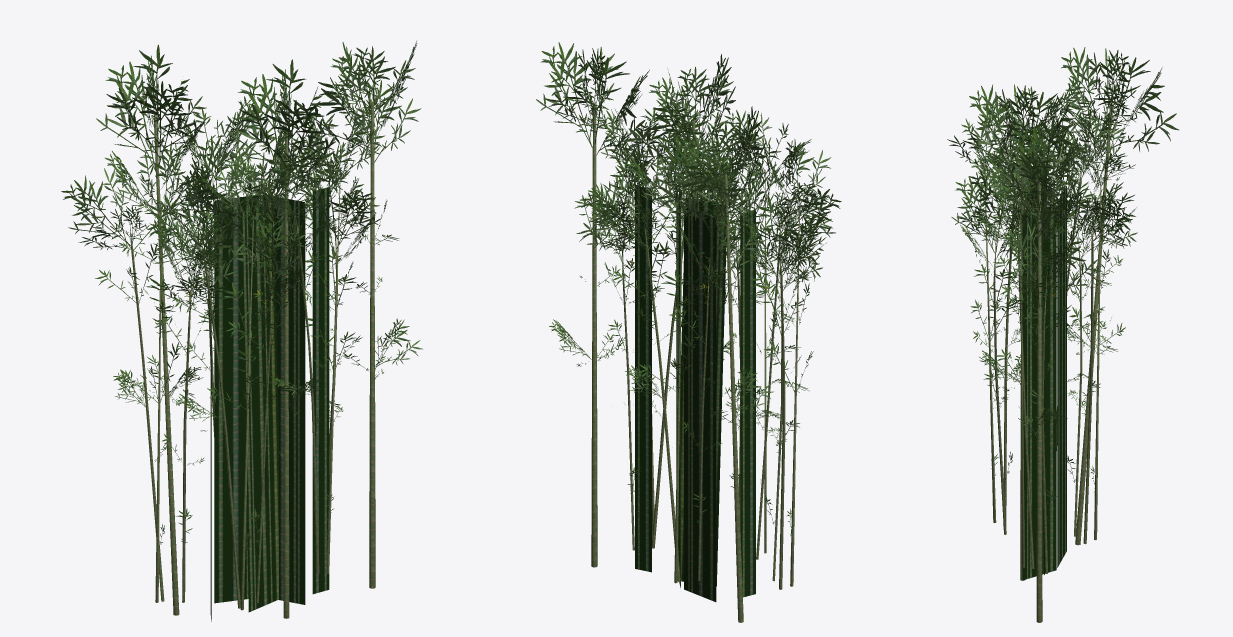
File: leaf_bamboogrove_l0.fbx
3 views of the same model, side by side, from view 1: azimuth 30°, elevation 25°; view 2: azimuth 150°, elevation 25°; view 3: azimuth 270°, elevation 25° (orthographic). The views are drawn at different scales.
Visible parts, largest first — view 1: mesh_node; view 2: mesh_node; view 3: mesh_node.
Boxes of the visible parts, x1,y1,x2,y2 form: mesh_node: [61, 41, 422, 621]; mesh_node: [536, 42, 841, 622]; mesh_node: [947, 47, 1178, 622].
Size of the model in its own units: 11.2 by 15.28 by 8.49.
